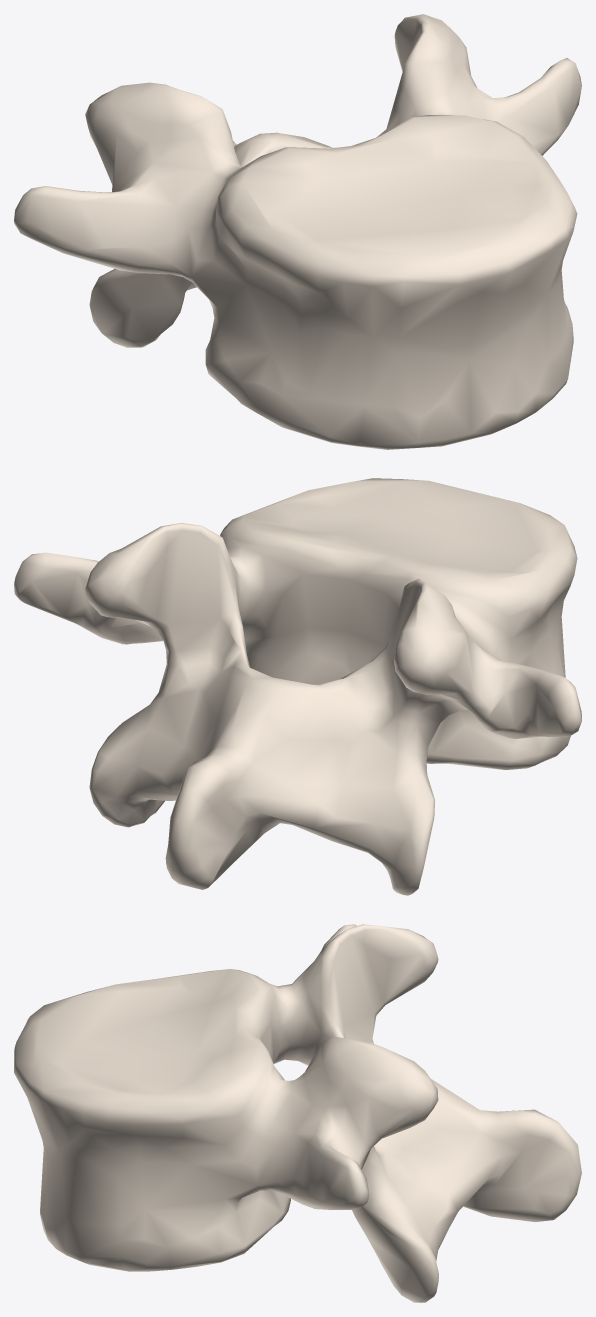
3 views of the same model, one above another, from view 1: azimuth 30°, elevation 25°; view 2: azimuth 150°, elevation 25°; view 3: azimuth 270°, elevation 25° (orthographic). The views are drawn at different scales.
Parts seen in each view (by area): view 1: Lumbar vertebrae (L4); view 2: Lumbar vertebrae (L4); view 3: Lumbar vertebrae (L4).
Part boxes in pixels (x1,y1,x2,y2): Lumbar vertebrae (L4): (14,14,581,449); Lumbar vertebrae (L4): (14,478,581,895); Lumbar vertebrae (L4): (14,924,581,1302).
Size of the model in its own units: 0.0888 by 0.0421 by 0.0842.
